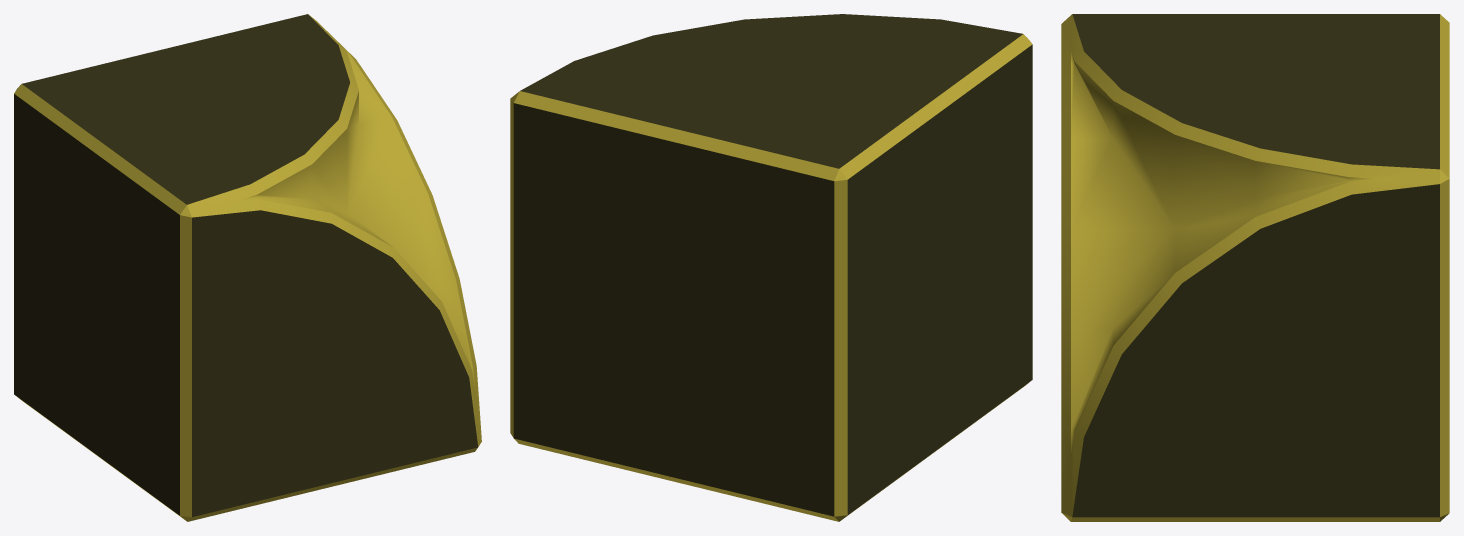
File: VeryPokat3Ugol.fbx
The picture shows the model from 3 angles, left to right: view 1: azimuth 30°, elevation 25°; view 2: azimuth 150°, elevation 25°; view 3: azimuth 270°, elevation 25°; orthographic projection. The views are drawn at different scales.
Visible parts, largest first — view 1: Cube.002; view 2: Cube.002; view 3: Cube.002.
Boxes of the visible parts, x1,y1,x2,y2 form: Cube.002: [14, 14, 481, 521]; Cube.002: [510, 14, 1032, 521]; Cube.002: [1061, 14, 1449, 521].
Bounding box in the file's own units: 2 × 2 × 2.
